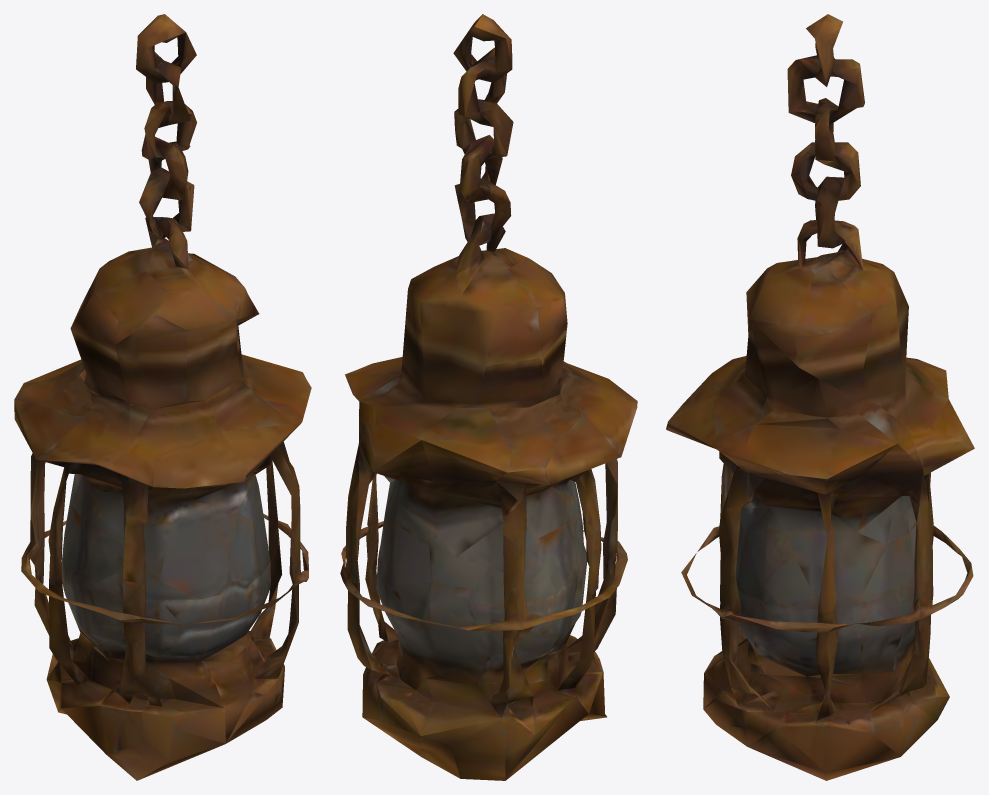
Rendered from obj_lantern.glb.
3 renders of one model, left to right at view 1: azimuth 30°, elevation 25°; view 2: azimuth 150°, elevation 25°; view 3: azimuth 270°, elevation 25°, orthographic.
Visible parts, largest first — view 1: Rustic lantern; view 2: Rustic lantern; view 3: Rustic lantern.
Boxes of the visible parts, box(x1,y1,x2,y2) form: Rustic lantern: box(14, 14, 311, 780); Rustic lantern: box(340, 14, 637, 780); Rustic lantern: box(666, 14, 974, 780).
Size of the model in its own units: 0.7932 by 2 by 0.7732.
Materials: 1 (1 with a texture image).
